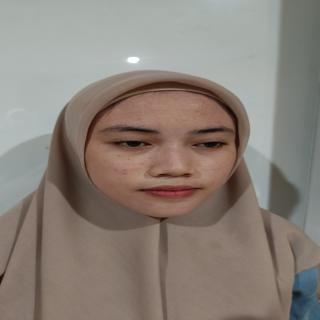Netral: (71, 76, 264, 224)
